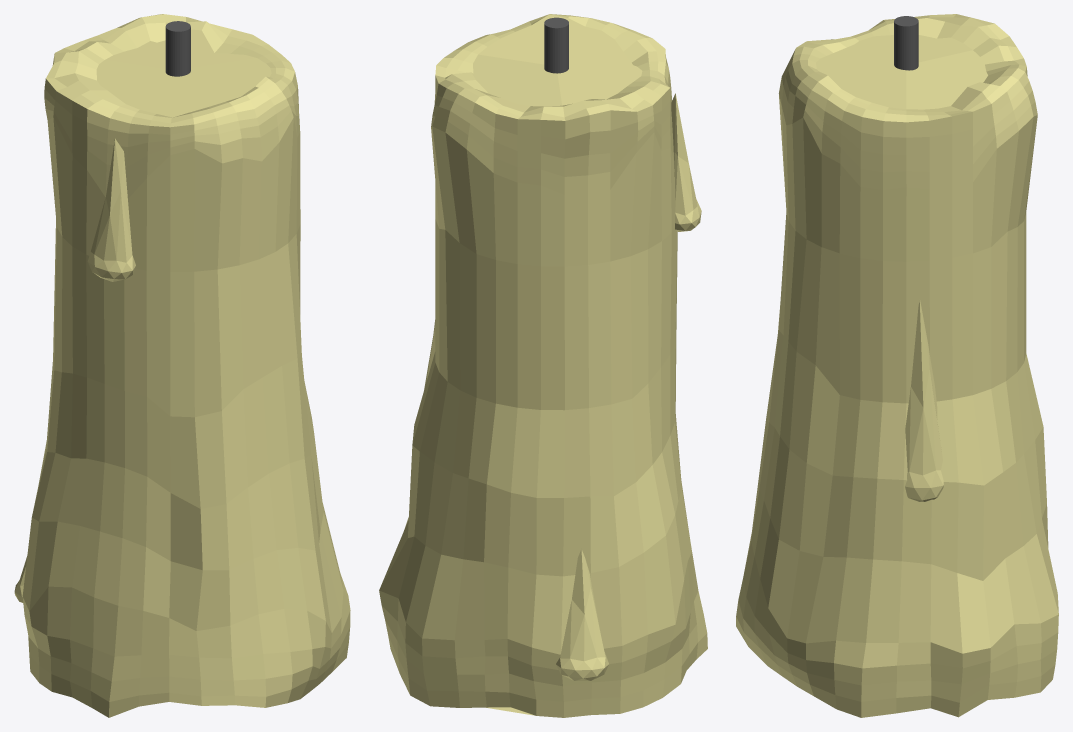
The model's file is Candle.fbx.
3 renders of one model, left to right at view 1: azimuth 30°, elevation 25°; view 2: azimuth 150°, elevation 25°; view 3: azimuth 270°, elevation 25°, orthographic. The views are drawn at different scales.
Parts seen in each view (by area): view 1: Kerze.002; view 2: Kerze.002; view 3: Kerze.002.
Part boxes in pixels (<box>): Kerze.002: <box>14,14,350,717</box>; Kerze.002: <box>379,14,707,717</box>; Kerze.002: <box>736,14,1058,717</box>.
Size of the model in its own units: 48.4 by 106 by 48.98.
